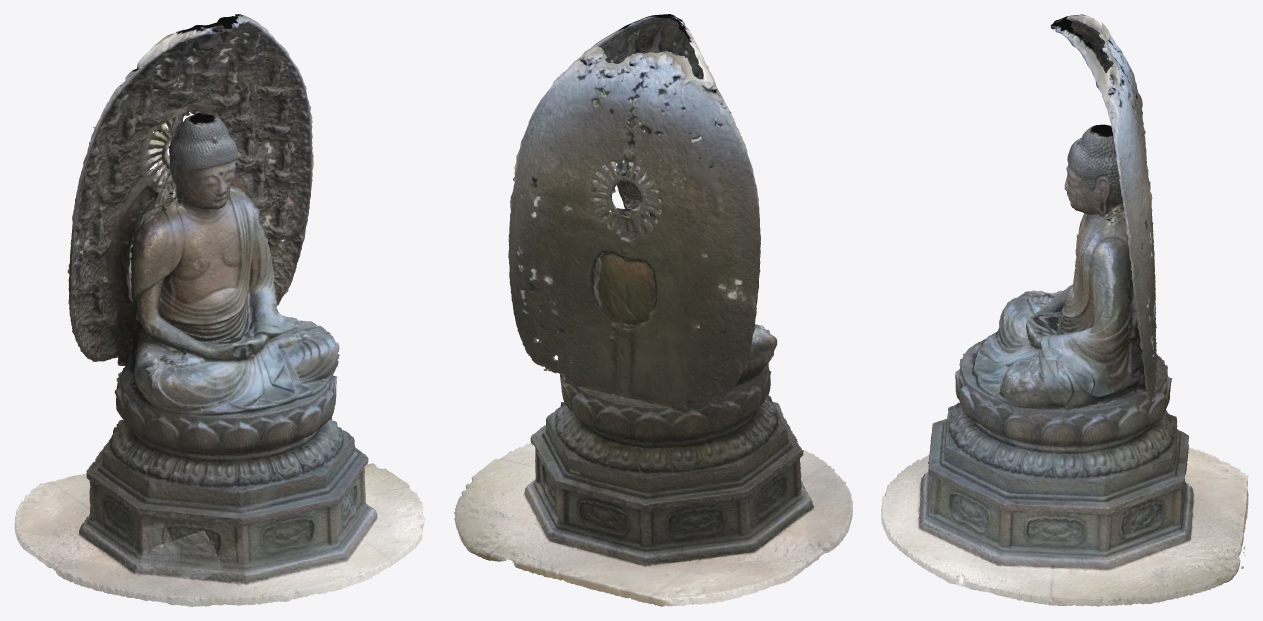
The model's file is preview.glb.
3 views of the same model, side by side, from view 1: azimuth 30°, elevation 25°; view 2: azimuth 150°, elevation 25°; view 3: azimuth 270°, elevation 25° (orthographic). The views are drawn at different scales.
Visible parts, largest first — view 1: Object_2; view 2: Object_2; view 3: Object_2.
Boxes of the visible parts, left/top/right/bottom form: Object_2: left=14, top=14, right=425, bottom=606; Object_2: left=454, top=14, right=852, bottom=606; Object_2: left=881, top=14, right=1248, bottom=606.
Bounding box in the file's own units: 14.68 × 20.65 × 13.62.
Materials: 1 (1 with a texture image).
